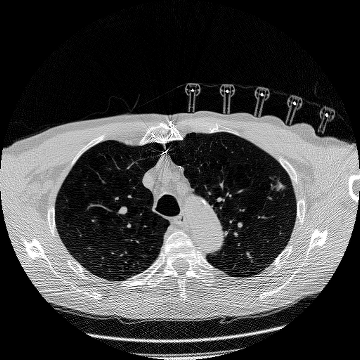nodule: (275, 182, 283, 190)
